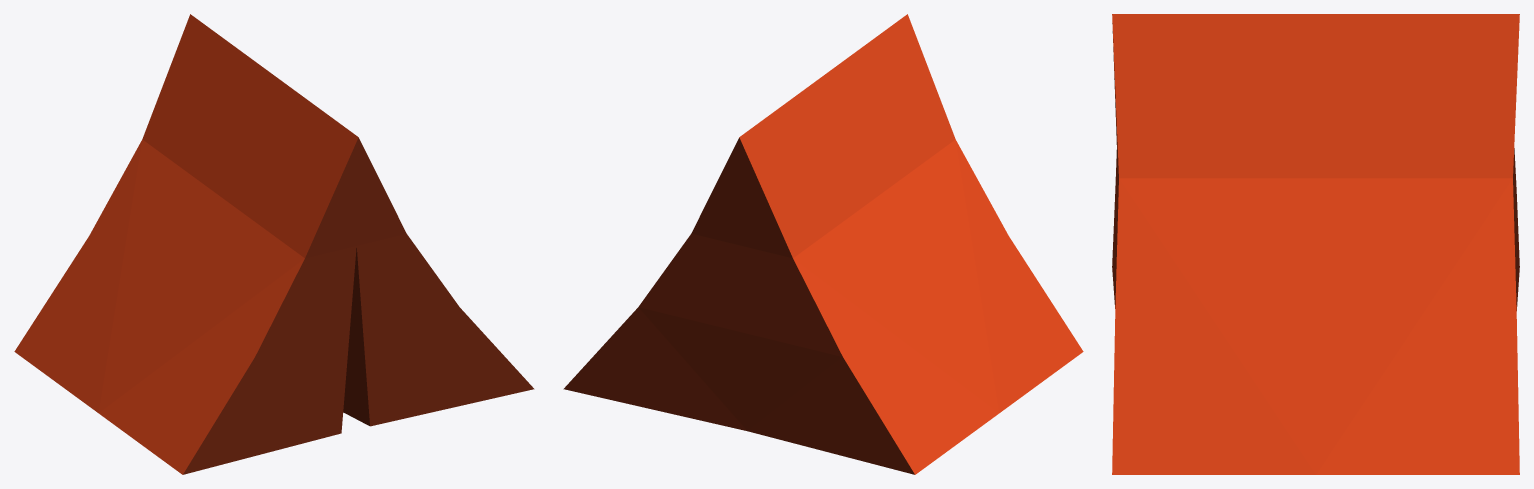
Rendered from tent_02.fbx.
3 views of the same model, side by side, from view 1: azimuth 30°, elevation 25°; view 2: azimuth 150°, elevation 25°; view 3: azimuth 270°, elevation 25° (orthographic). The views are drawn at different scales.
Parts seen in each view (by area): view 1: tent_02; view 2: tent_02; view 3: tent_02.
Boxes of the visible parts, left/top/right/bottom form: tent_02: left=14, top=14, right=534, bottom=474; tent_02: left=563, top=14, right=1083, bottom=474; tent_02: left=1112, top=14, right=1519, bottom=474.
Bounding box in the file's own units: 281 × 225 × 233.
